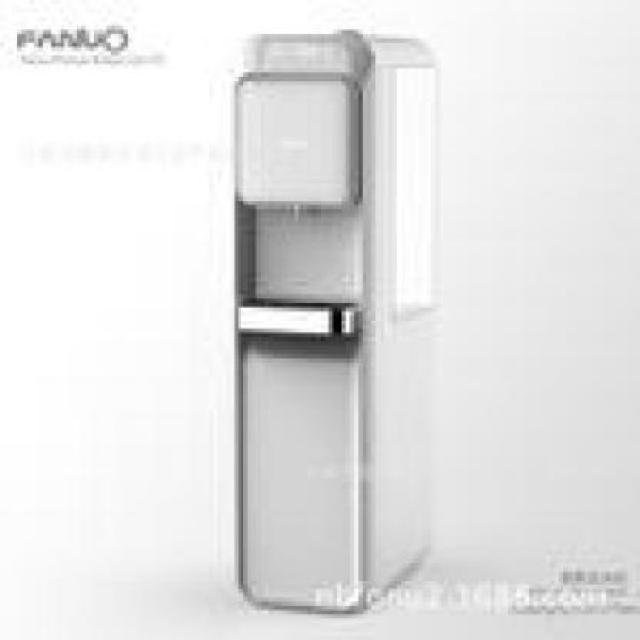cooler: (226, 23, 433, 619)
